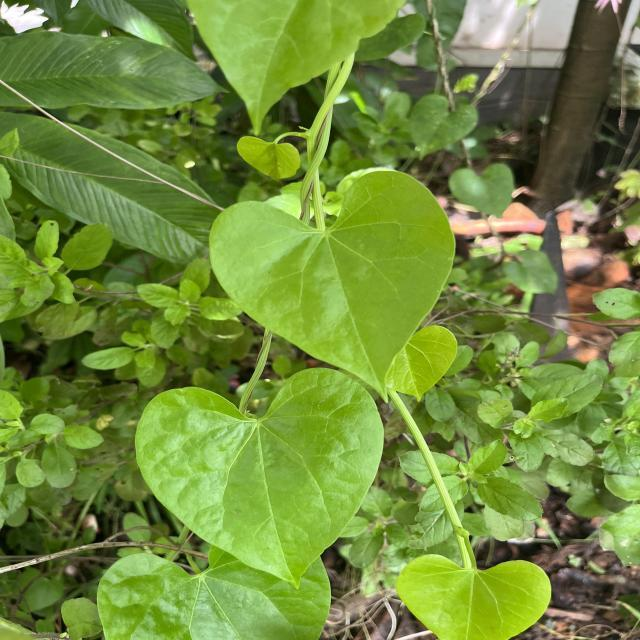Tinospora cordifolia: (207, 168, 457, 406), (132, 364, 387, 592)
